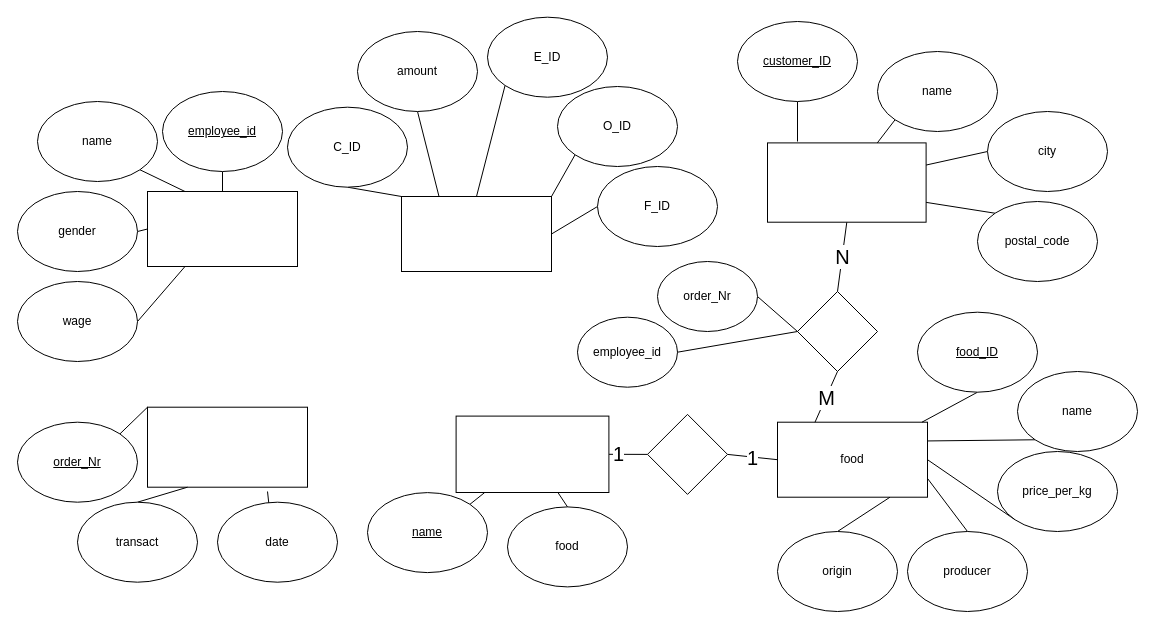
The diagram is 1155 pixels wide and 630 high, and some of its shapes have lost their labels. The shapes that lost their labels are listed below. From the top down, each one's centre as x and y in pixels, then its label:
At [846,182]: "customer".
At [222,228]: "employee".
At [476,234]: "customer_buys_food".
At [837,331]: "buys".
At [227,446]: "orders".
At [532,453]: "animals".
At [687,453]: "eat".
